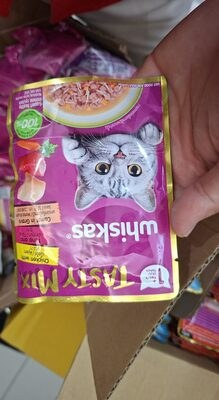whiskas tasty mix: (11, 20, 208, 380)
